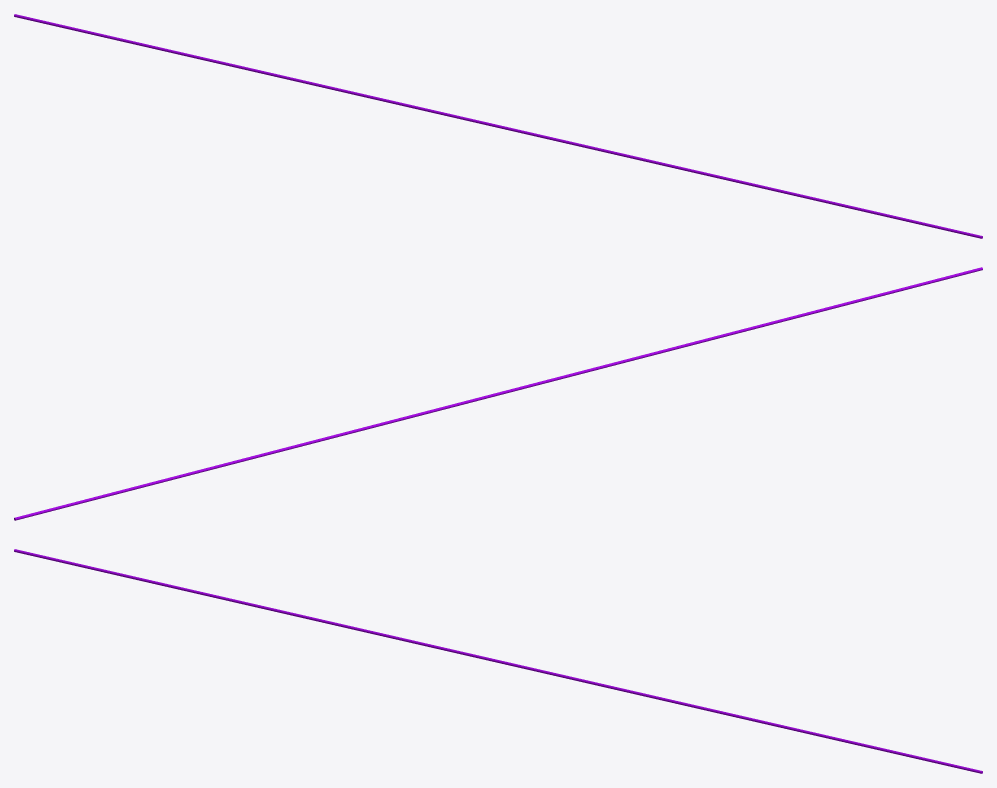
Rendered from Цилиндр.001.gltf.
The picture shows the model from 3 angles, top to bottom: view 1: azimuth 90°, elevation 25°; view 2: azimuth 150°, elevation 25°; view 3: azimuth 270°, elevation 25°; orthographic projection. The views are drawn at different scales.
Visible parts, largest first — view 1: Цилиндр.001; view 2: Цилиндр.001; view 3: Цилиндр.001.
Part boxes in pixels (left/top/right/bottom): Цилиндр.001: left=14, top=14, right=982, bottom=238; Цилиндр.001: left=14, top=267, right=982, bottom=520; Цилиндр.001: left=14, top=549, right=982, bottom=773.
Size of the model in its own units: 1.79 by 0.01 by 3.29.
